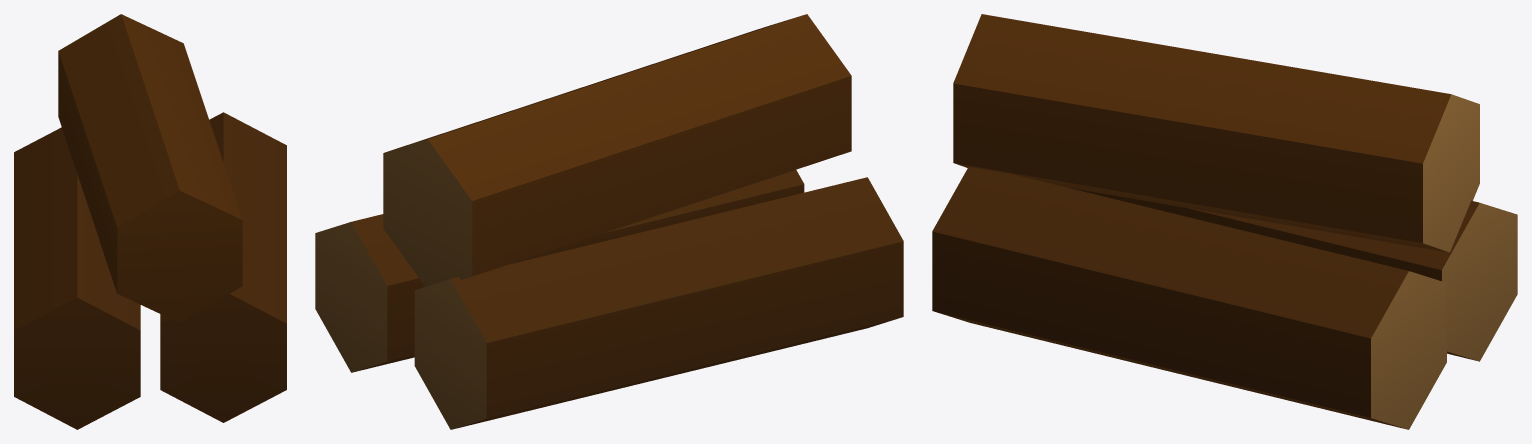
The model's file is wood.glb.
3 views of the same model, side by side, from view 1: azimuth 30°, elevation 25°; view 2: azimuth 150°, elevation 25°; view 3: azimuth 270°, elevation 25° (orthographic). The views are drawn at different scales.
Visible parts, largest first — view 1: wood; view 2: wood; view 3: wood.
Boxes of the visible parts, x1,y1,x2,y2 form: wood: (14, 14, 286, 429); wood: (315, 14, 903, 429); wood: (932, 14, 1517, 429).
Size of the model in its own units: 0.2804 by 0.162 by 0.3005.
